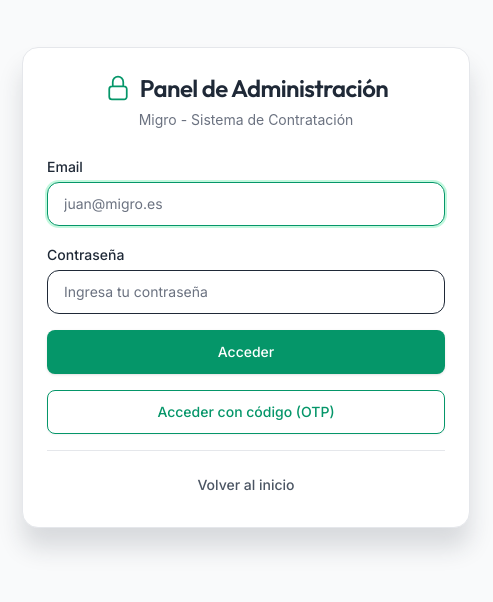
AdminLogin - Tests Automatizados › debe mostrar error si las credenciales son incorrectas
Step 1. Type "agusvc@gmail.com" into the field labelled "Email" → (246, 204), box [47,182,445,226]
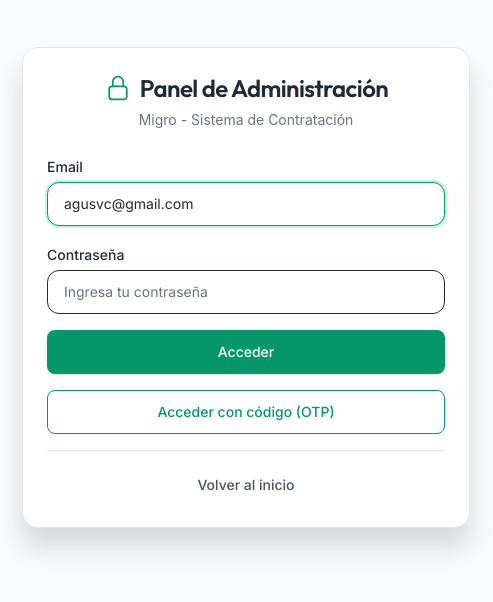
Step 2. Type "password-incorrecto" into the password field labelled "Contraseña" → (246, 292), box [47,270,445,314]
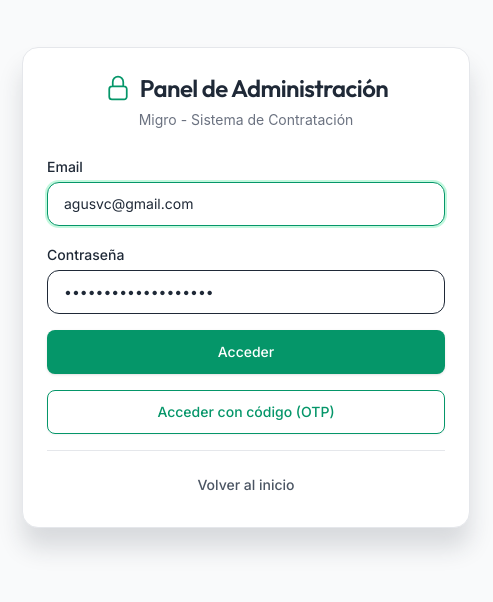
Step 3. Click the button "Acceder" → (246, 352), box [47,330,445,374]
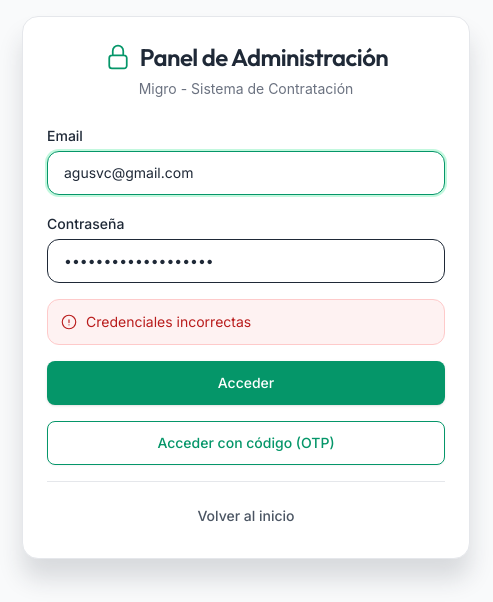
Expected: the text "Credenciales incorrectas" is shown, [86,312,251,332]
